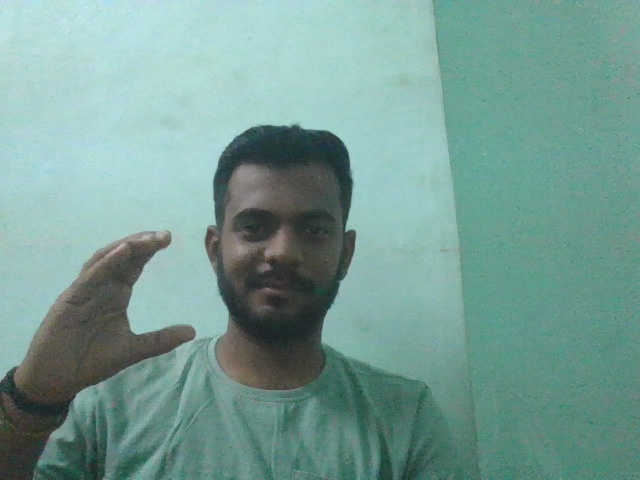no: (22, 225, 221, 393)
